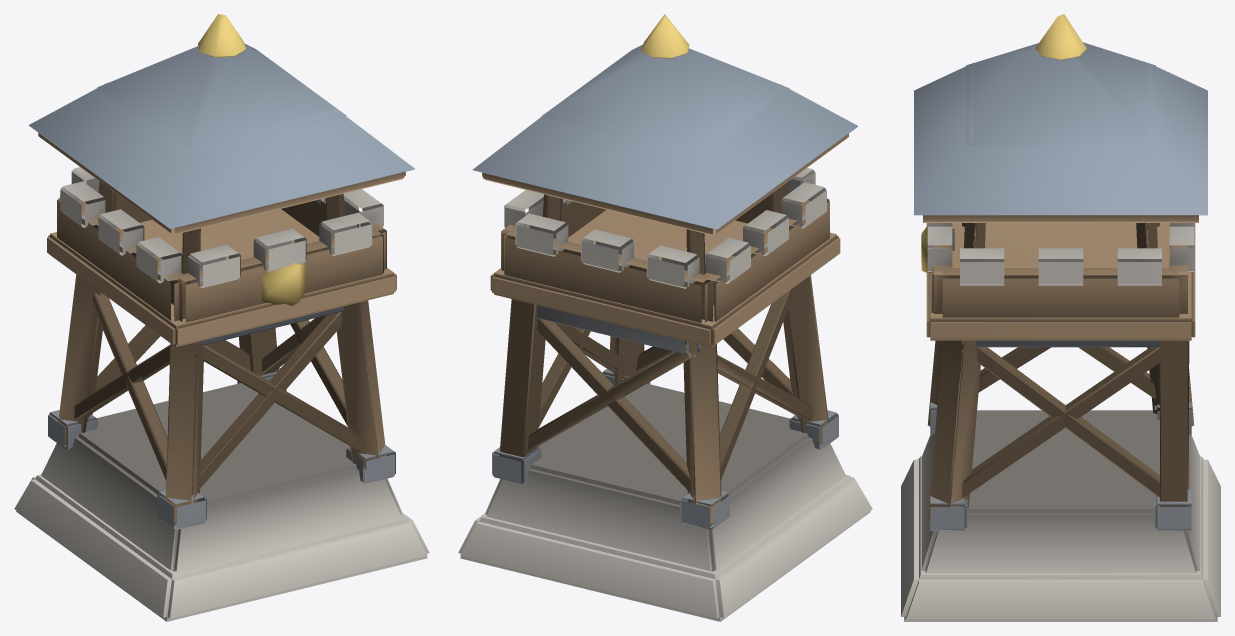
File: watch_tower_lod1.glb
3 views of the same model, side by side, from view 1: azimuth 30°, elevation 25°; view 2: azimuth 150°, elevation 25°; view 3: azimuth 270°, elevation 25° (orthographic). The views are drawn at different scales.
Parts seen in each view (by area): view 1: watch_tower.001; view 2: watch_tower.001; view 3: watch_tower.001.
Part boxes in pixels (x1,y1,x2,y2): watch_tower.001: (14,14,429,621); watch_tower.001: (458,14,872,621); watch_tower.001: (901,14,1220,621).
Bounding box in the file's own units: 2.59 × 4.84 × 2.59.
